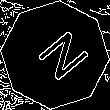N_SW: (23, 23, 87, 87)
